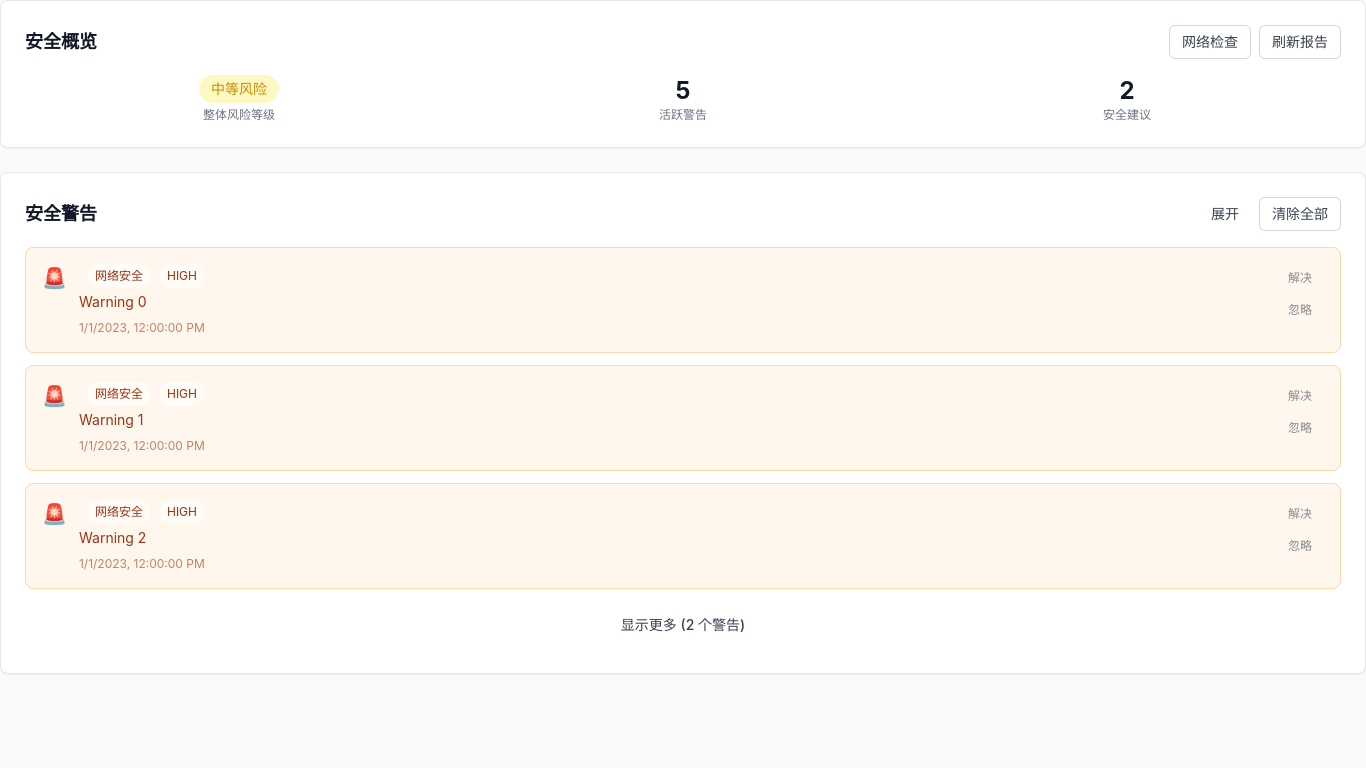
Test case: SecurityDashboard › should expand and collapse warnings
The image size is (1366, 768).
Expected: the text "Warning 0" is shown, [79,293,147,310]
Expected: the text "Warning 1" is shown, [79,411,144,428]
Expand to show all warnings
Click the button "显示更多 (2 个警告)" at (683, 625), box [609,609,757,641]
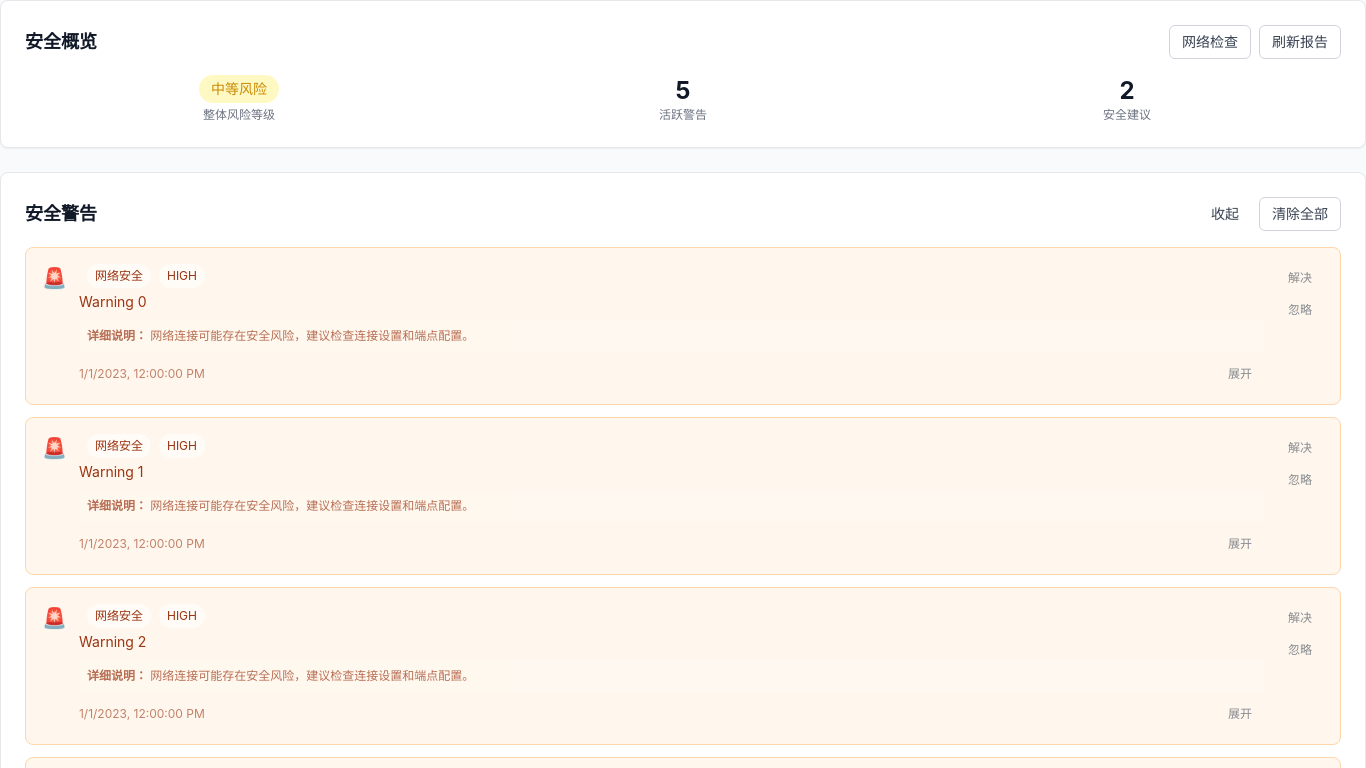
Result: the button "收起" is shown at [1199,198,1251,230]
